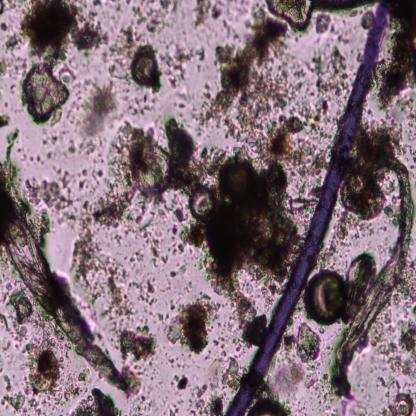Background material: (188, 147, 296, 289), (101, 116, 188, 260), (244, 56, 330, 173), (199, 17, 285, 132), (72, 223, 135, 322), (339, 122, 405, 216), (26, 169, 130, 227), (0, 342, 78, 412), (22, 2, 110, 58), (376, 0, 416, 109), (20, 59, 76, 124), (109, 27, 164, 92), (164, 298, 221, 355), (0, 290, 51, 350), (266, 1, 374, 29), (223, 286, 271, 348), (321, 214, 368, 268), (160, 37, 206, 90), (378, 314, 416, 377), (80, 79, 118, 141), (312, 42, 348, 94), (115, 323, 158, 363), (297, 357, 331, 407), (41, 129, 99, 157), (70, 386, 124, 416), (132, 1, 181, 34), (137, 221, 168, 270), (283, 323, 323, 360), (190, 385, 230, 416), (211, 357, 244, 394), (395, 96, 416, 141), (128, 274, 158, 304), (399, 268, 416, 319), (194, 1, 223, 30), (121, 93, 155, 117), (122, 364, 145, 396), (5, 127, 21, 164), (128, 392, 152, 416), (166, 393, 190, 414), (316, 11, 336, 35), (172, 91, 196, 108), (170, 373, 189, 393), (141, 304, 164, 320), (109, 1, 126, 22), (360, 9, 375, 30), (168, 355, 183, 375), (4, 34, 22, 50), (0, 1, 19, 16), (170, 264, 187, 279), (0, 110, 13, 129), (0, 58, 10, 79), (28, 154, 44, 166), (0, 21, 11, 33)
Cellulose filter fibre: (0, 161, 127, 390), (332, 146, 416, 394)
Diatom: (305, 270, 346, 327), (221, 160, 258, 206), (188, 184, 216, 218), (251, 398, 289, 415)
Hair textile: (226, 3, 388, 414)
